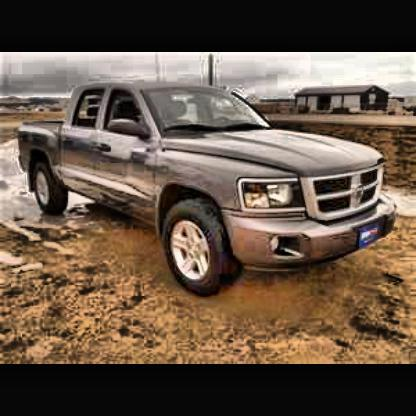Dodge Dakota Crew Cab 2010: (12, 79, 401, 302)
